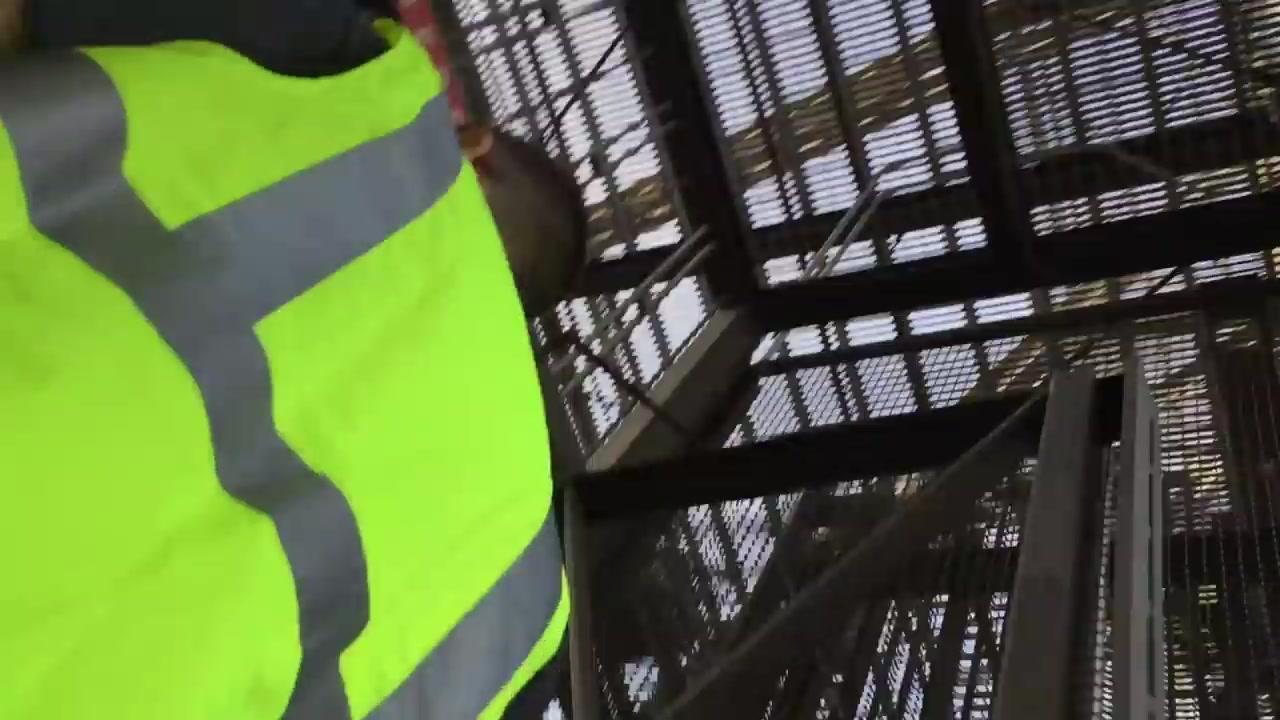vest: (0, 18, 567, 719)
